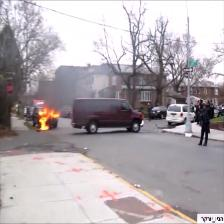fire: (30, 99, 71, 139)
